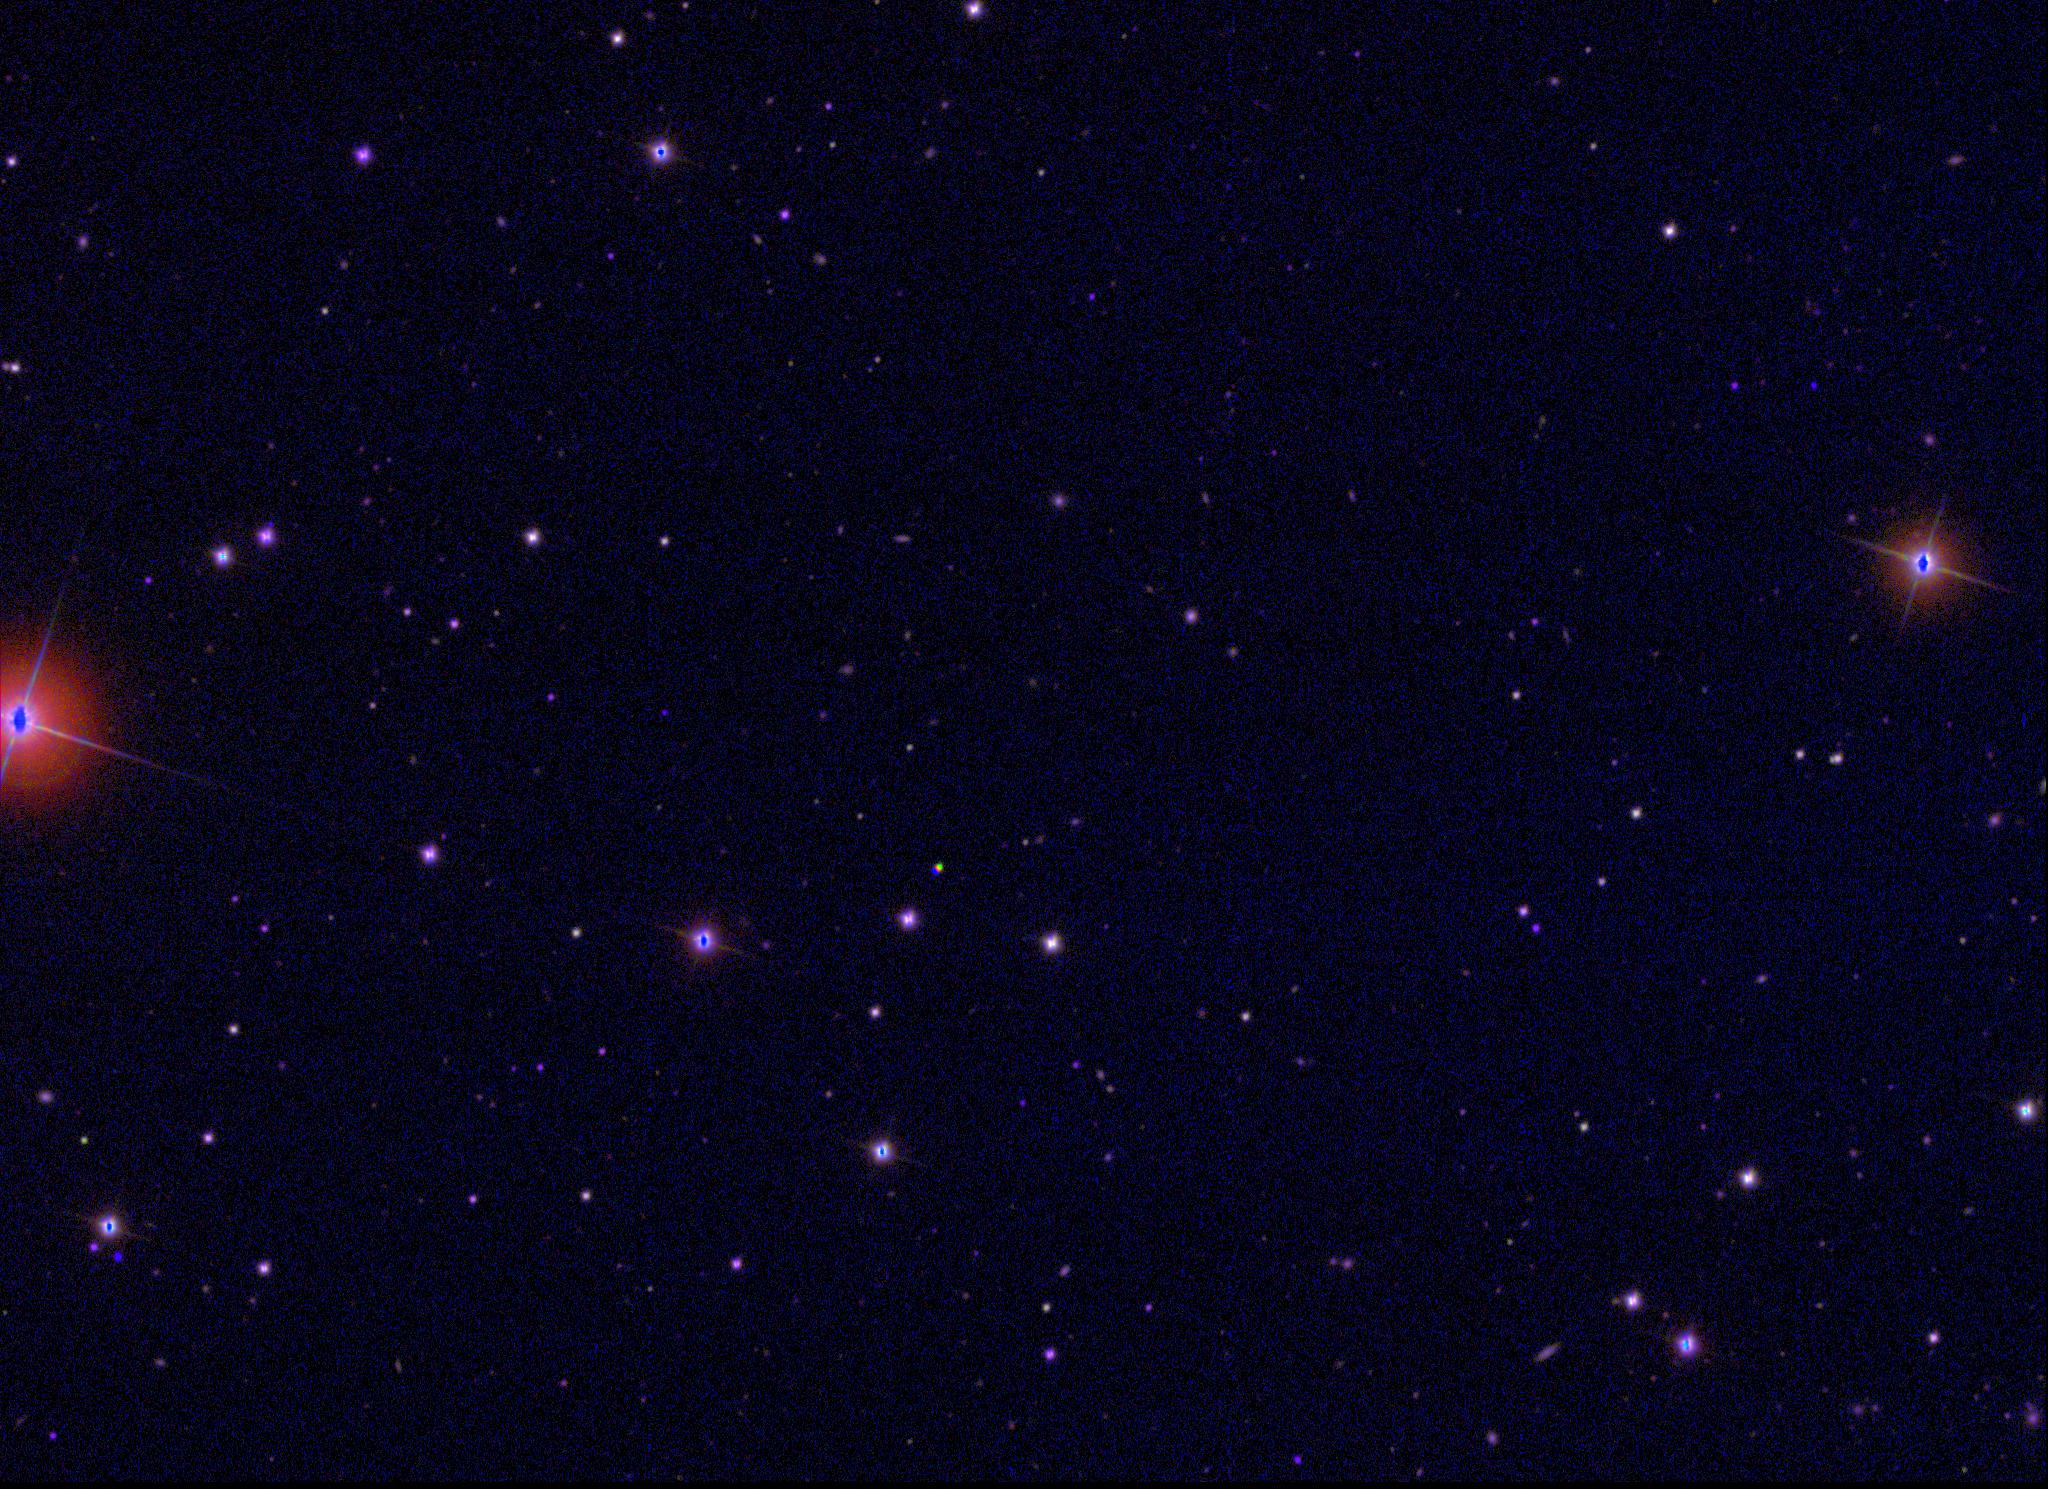L: (111, 1249, 126, 1262)
